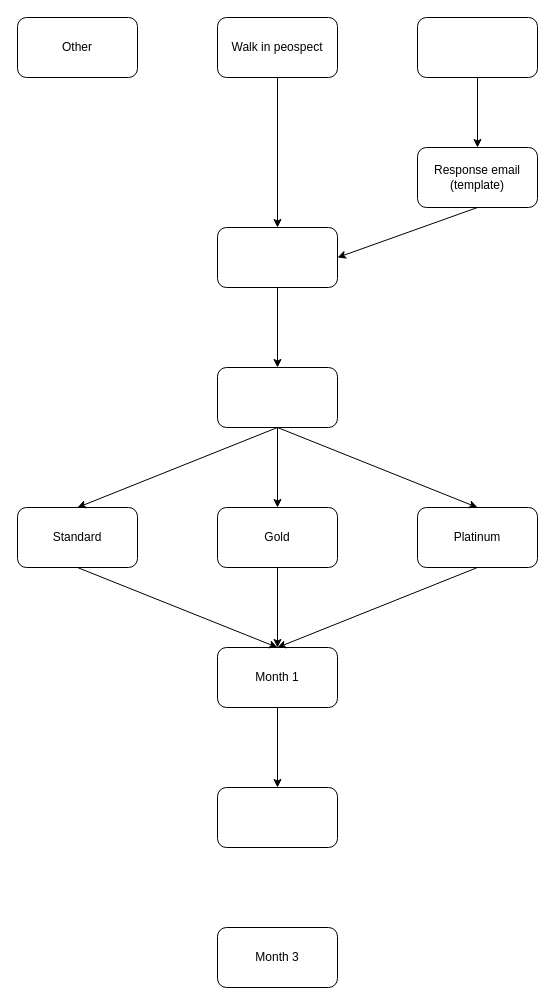
Image size: 555x1005. Some labels were removed from this diagram. The centre of each missing label's shape, as x and y in pixels:
Email inquiry via website: [477,47]
First Meeting: [277,257]
Month 2: [277,817]
Sign-on: [277,397]
